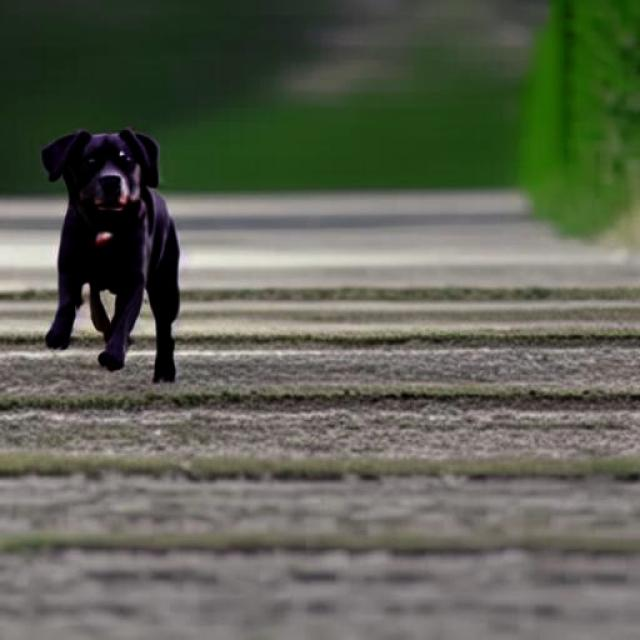Dog: (43, 130, 179, 383)
